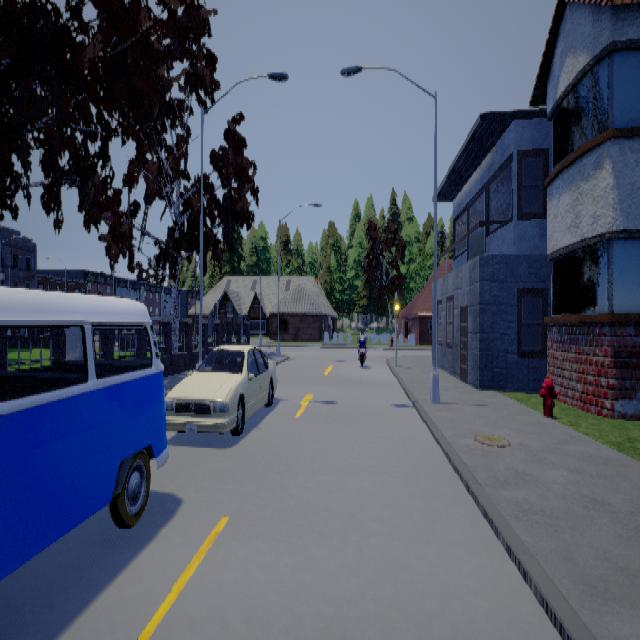motobike: (354, 327, 367, 365)
vehicle: (0, 284, 167, 584), (163, 340, 279, 441)
yellow_light: (393, 291, 398, 322)
